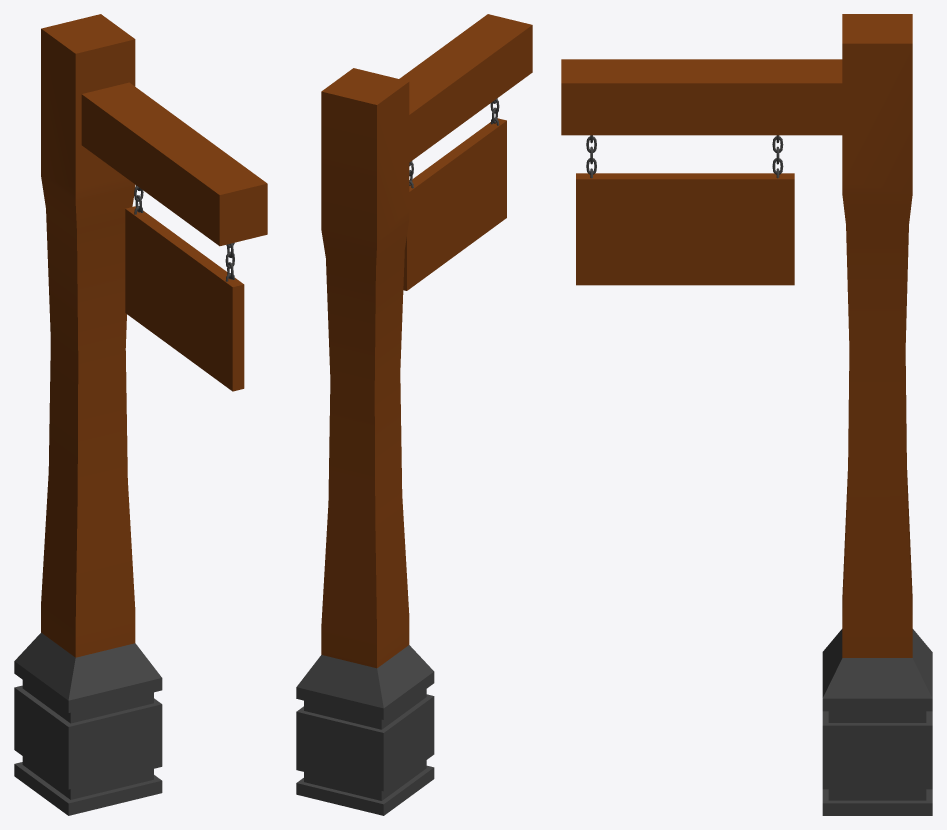
The model's file is letrero.fbx.
The picture shows the model from 3 angles, left to right: view 1: azimuth 30°, elevation 25°; view 2: azimuth 150°, elevation 25°; view 3: azimuth 270°, elevation 25°; orthographic projection. The views are drawn at different scales.
Visible parts, largest first — view 1: Box001; view 2: Box001; view 3: Box001.
Boxes of the visible parts, x1,y1,x2,y2 form: Box001: (14, 14, 267, 815); Box001: (296, 14, 532, 815); Box001: (561, 14, 932, 815).
Bounding box in the file's own units: 7.83 × 60 × 26.42.
